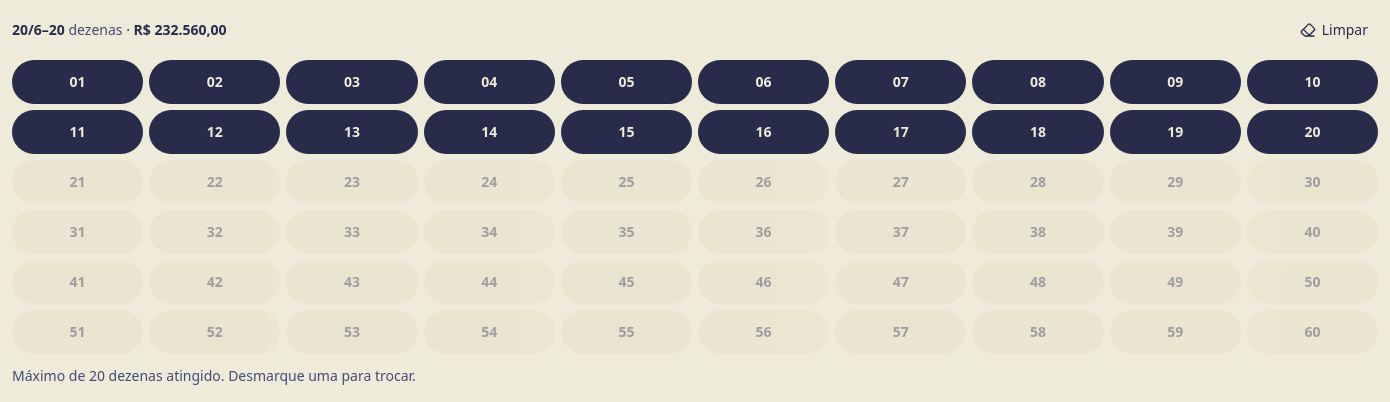
VolanteNumerico › não deixa passar do máximo e permite limpar
Check: the button named "Dezena 21" is disabled, box x1=12 y1=160 x2=143 y2=204
Check: the text "Máximo de 20 dezenas atingido. Desmarque uma para trocar." is shown, box x1=12 y1=366 x2=416 y2=385
Click the button "Limpar" at (1334, 30), box x1=1290 y1=12 x2=1378 y2=48
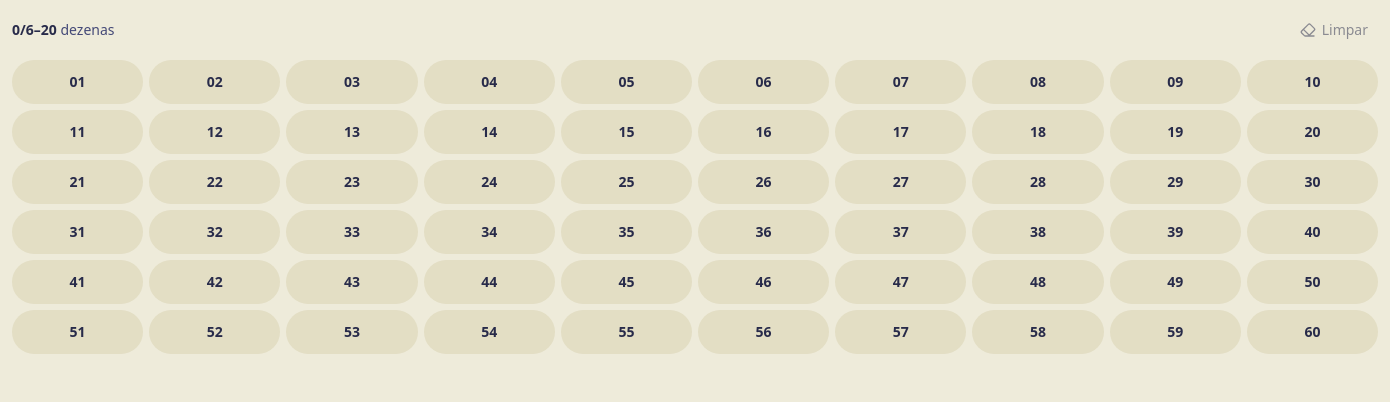
Check: the text "0/6–20" is shown, box x1=12 y1=20 x2=57 y2=39
Check: the button named "Dezena 21" is enabled, box x1=12 y1=160 x2=143 y2=204
